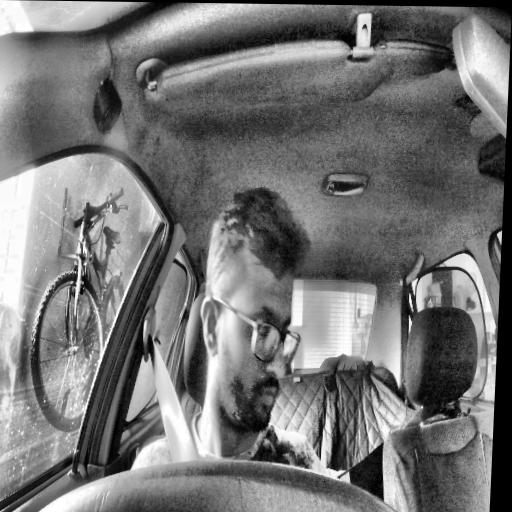drowsy: (197, 182, 310, 441)
